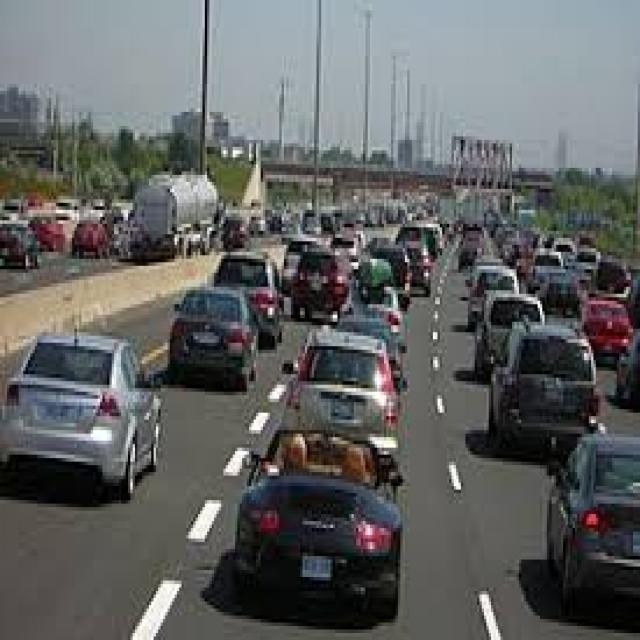Car: (0, 322, 168, 503), (222, 434, 410, 593), (549, 430, 640, 598), (274, 332, 404, 438), (157, 289, 257, 393), (493, 331, 593, 435), (212, 258, 288, 347), (284, 251, 354, 325), (575, 296, 640, 360), (344, 278, 404, 346), (482, 297, 544, 357), (473, 273, 523, 322)
